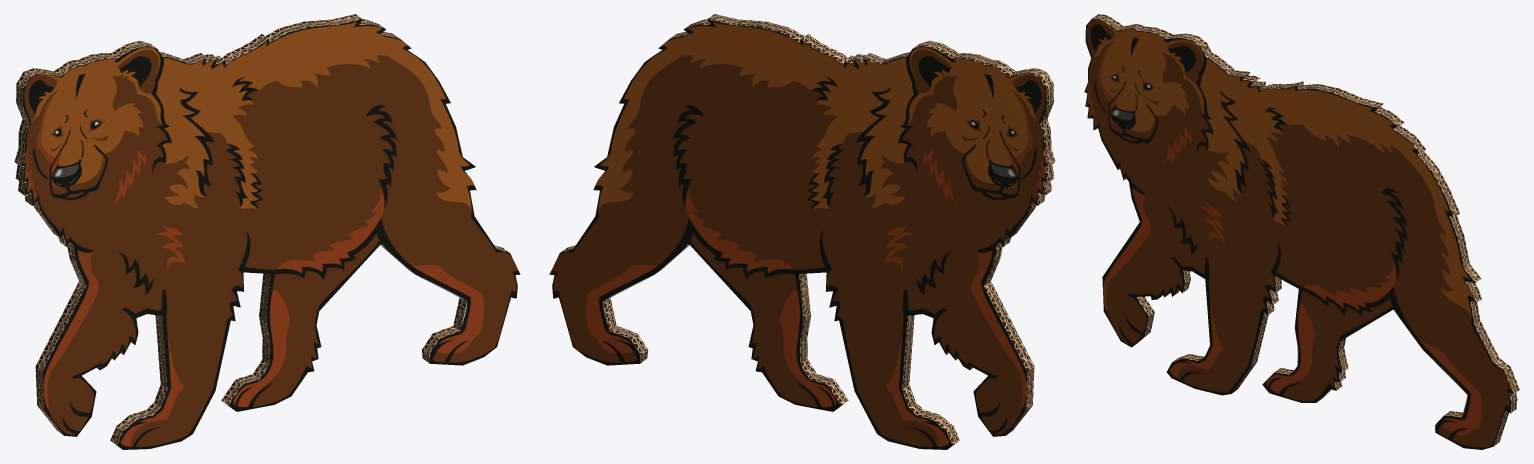
The model's file is Bear.obj.
The picture shows the model from 3 angles, left to right: view 1: azimuth 30°, elevation 25°; view 2: azimuth 150°, elevation 25°; view 3: azimuth 330°, elevation 25°; orthographic projection. The views are drawn at different scales.
Visible parts, largest first — view 1: Bear_Plane; view 2: Bear_Plane; view 3: Bear_Plane.
Boxes of the visible parts, bbox=[...] form: Bear_Plane: bbox=[14, 14, 520, 449]; Bear_Plane: bbox=[549, 14, 1055, 449]; Bear_Plane: bbox=[1084, 14, 1519, 449].
Size of the model in its own units: 4.98 by 3.85 by 0.1266.
